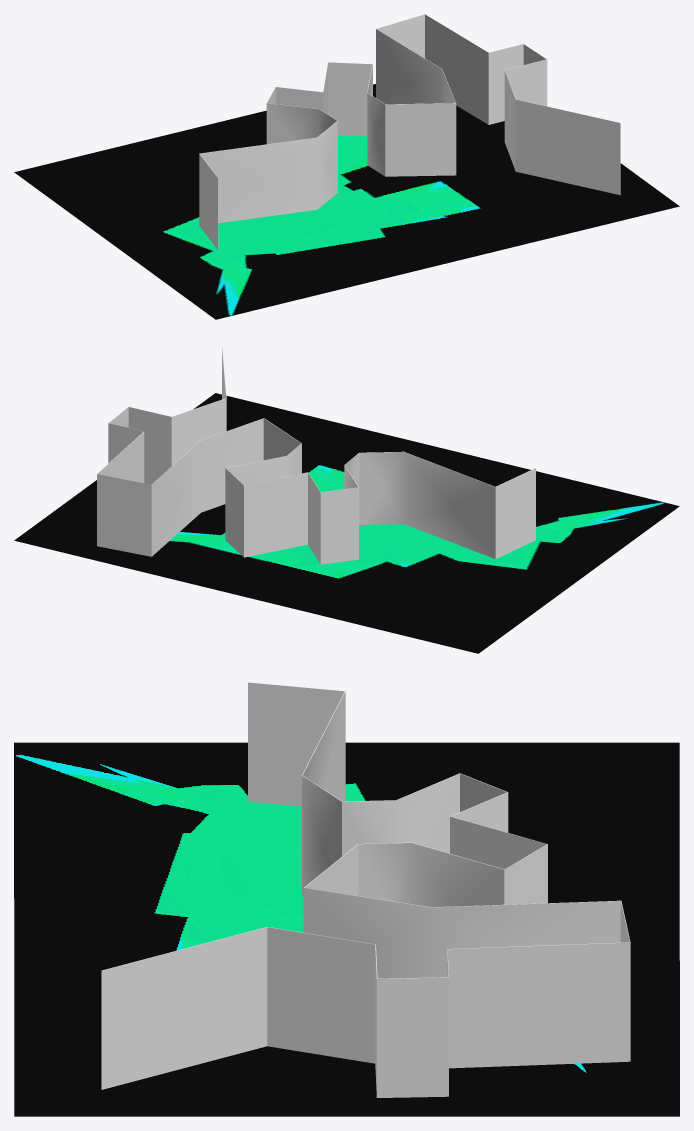
The model's file is agora-1.glb.
3 views of the same model, one above another, from view 1: azimuth 30°, elevation 25°; view 2: azimuth 150°, elevation 25°; view 3: azimuth 270°, elevation 25° (orthographic). The views are drawn at different scales.
Parts seen in each view (by area): view 1: House-O2, Mesh_3; view 2: House-O2, Mesh_3; view 3: House-O2, Mesh_3.
Part boxes in pixels (<box>): House-O2: <box>14,84,679,319</box>; Mesh_3: <box>199,14,620,249</box>; House-O2: <box>14,393,679,653</box>; Mesh_3: <box>97,348,535,564</box>; House-O2: <box>14,742,679,1116</box>; Mesh_3: <box>101,682,630,1097</box>.
Bounding box in the file's own units: 0.3468 × 0.0516 × 0.261.
3 materials, 1 textured.
